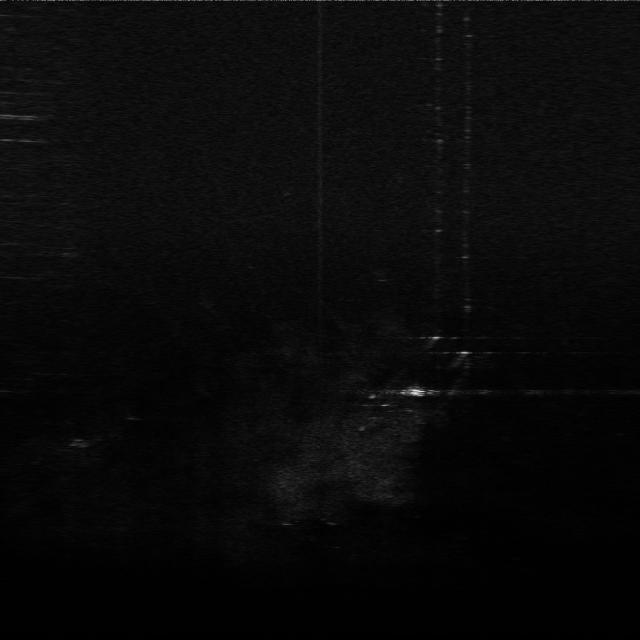rov: (398, 383, 429, 401)
